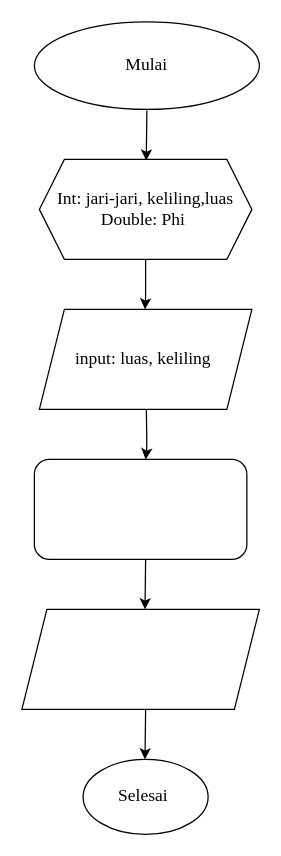
Some shapes in this 281 by 856 pixel diagram are drawn without their labels. Each missing label, with the centre of its shape:
"Luas= π x 2 jari-jari Keliling= 2 x π x r" belongs at point (140, 508).
"Tampilkan luas dan keliling" belongs at point (140, 658).
